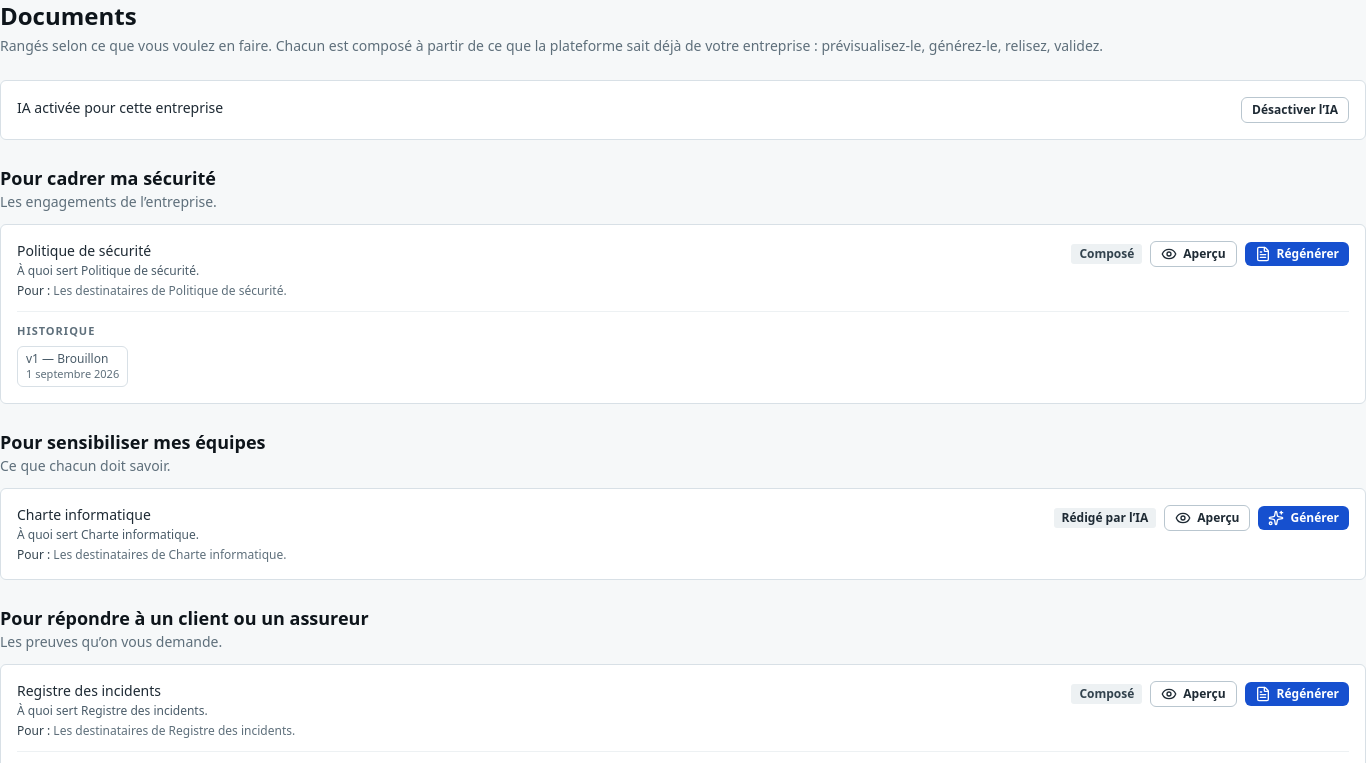
Test: DocumentsPage — les documents › montre le plan de la charte, dont le texte n’existe qu’à la rédaction
The width and height of the screenshot is (1366, 763).
Click the button with aria-label "Aperçu — Charte informatique" at (1207, 518), box [1164, 505, 1250, 531]
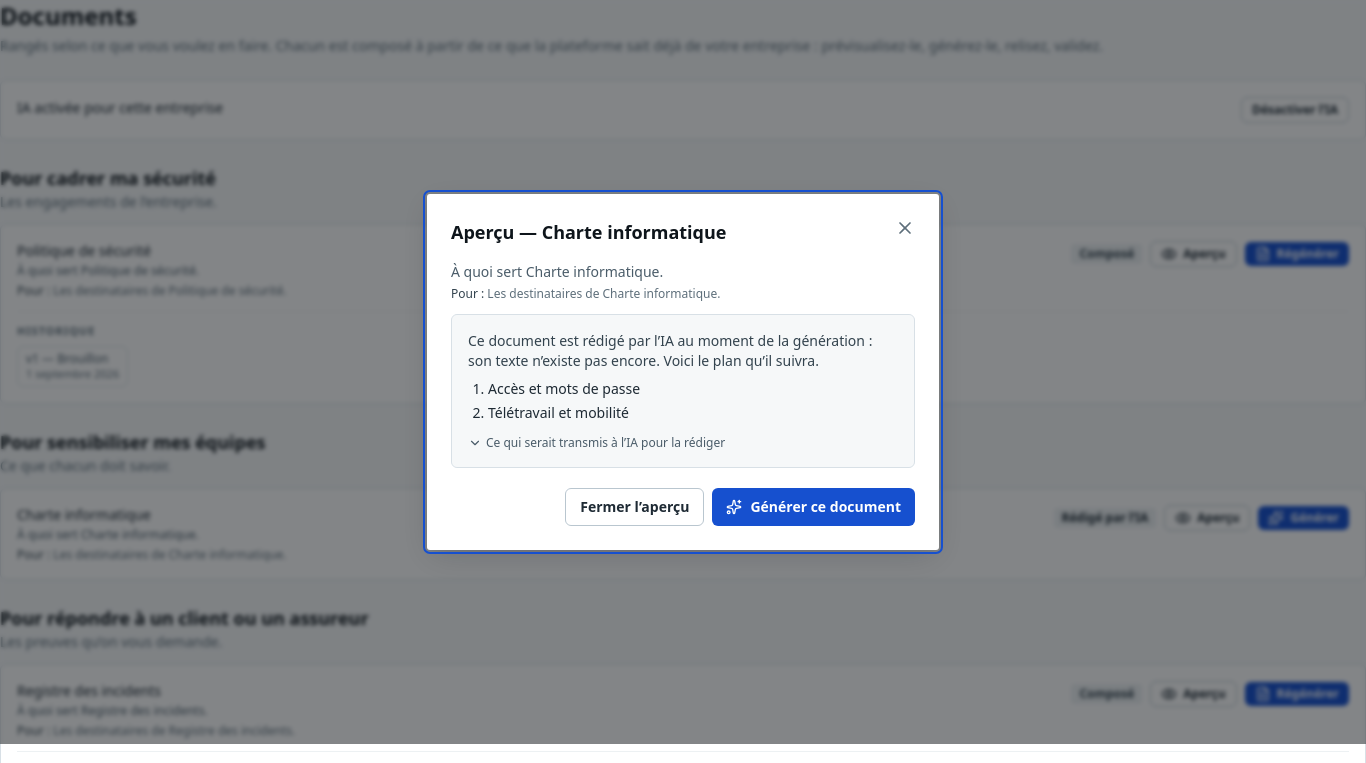
Result: the list item "Accès et mots de passe" is shown at [488, 379, 640, 398]
Result: the text "son texte n’existe pas encore" is shown at [468, 331, 872, 370]
